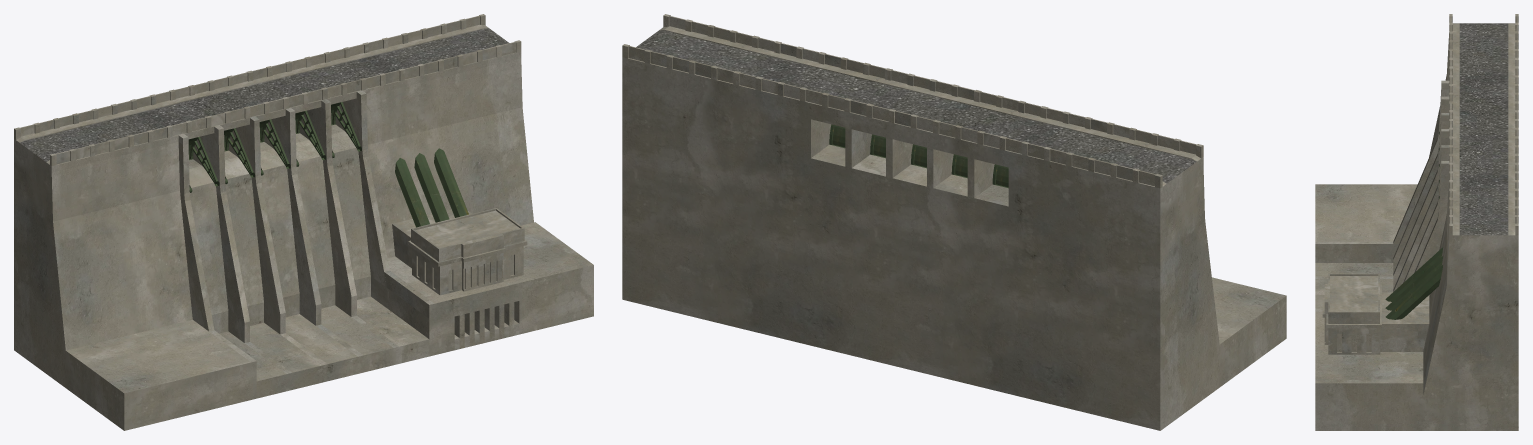
File: dam_hydro.glb
3 renders of one model, left to right at view 1: azimuth 30°, elevation 25°; view 2: azimuth 150°, elevation 25°; view 3: azimuth 270°, elevation 25°, orthographic. The views are drawn at different scales.
Parts seen in each view (by area): view 1: Object_7, Object_12, Object_4, Object_6; view 2: Object_7, Object_12, Object_4; view 3: Object_7, Object_12, Object_4, Object_6.
Boxes of the visible parts, box(x1,y1,x2,y2) form: Object_7: box(14, 14, 593, 430); Object_12: box(20, 28, 509, 161); Object_4: box(188, 102, 468, 227); Object_6: box(408, 241, 527, 290); Object_7: box(622, 14, 1286, 430); Object_12: box(636, 30, 1196, 183); Object_4: box(829, 124, 1008, 188); Object_7: box(1315, 14, 1518, 430); Object_12: box(1459, 23, 1508, 235); Object_4: box(1385, 132, 1443, 319); Object_6: box(1322, 314, 1381, 352).
Size of the model in its own units: 66.46 by 30 by 26.99.
Materials: 4 (4 with a texture image).
